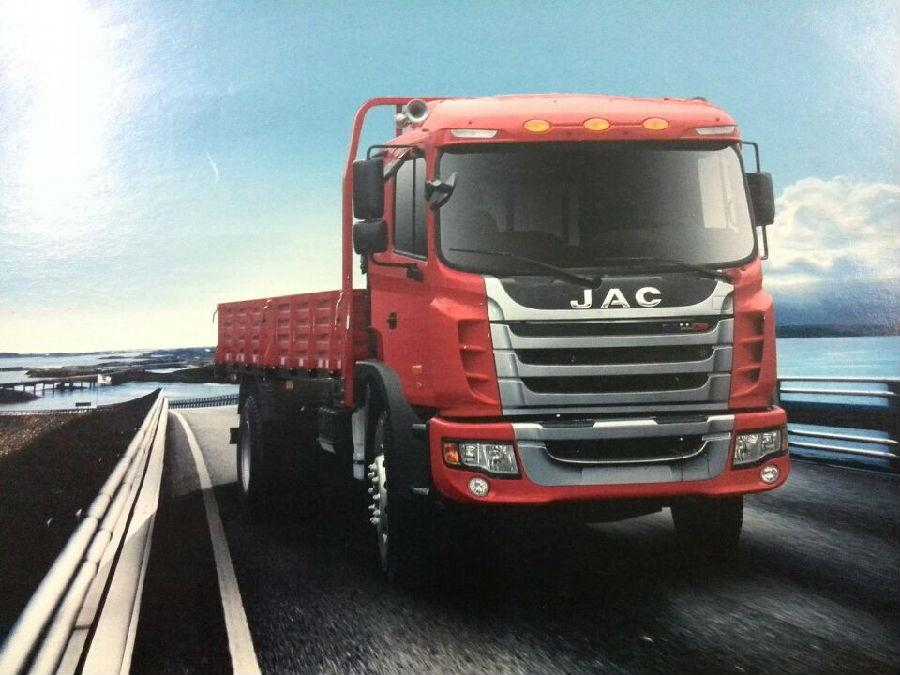truck: (152, 66, 809, 593)
